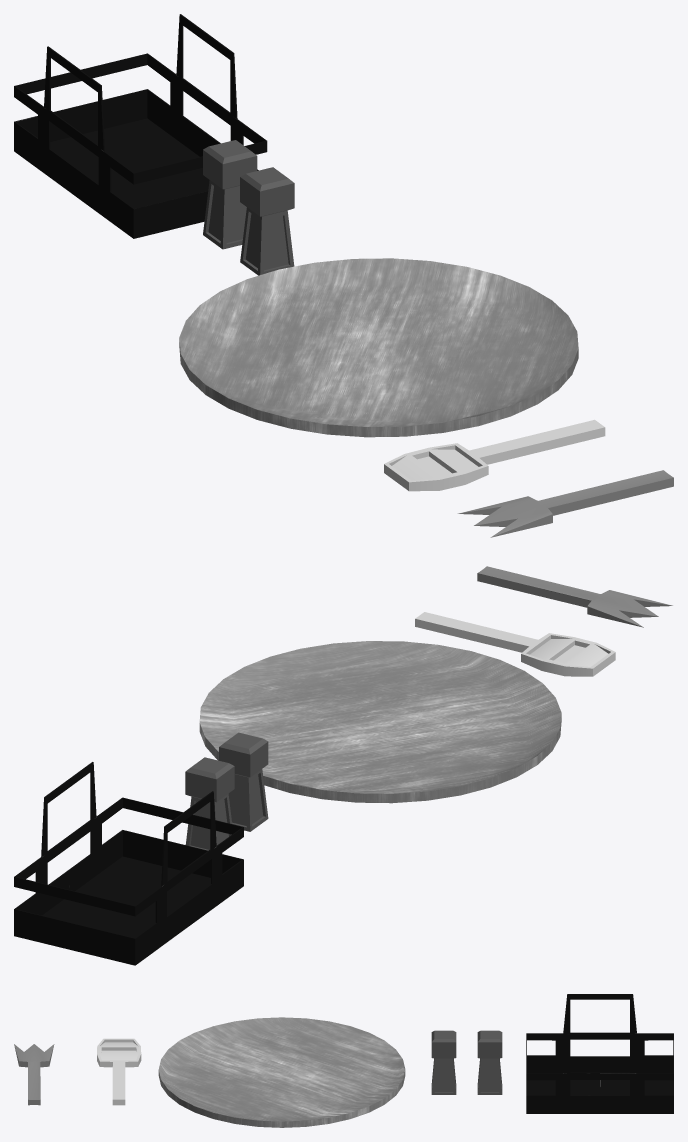
File: eatingstuff.fbx
3 renders of one model, top to bottom at view 1: azimuth 30°, elevation 25°; view 2: azimuth 150°, elevation 25°; view 3: azimuth 270°, elevation 25°, orthographic. The views are drawn at different scales.
Visible parts, largest first — view 1: plate, tablething, spoon, salt, fork, pepper; view 2: plate, tablething, spoon, fork, salt, pepper; view 3: plate, tablething, spoon, salt, pepper, fork.
Part boxes in pixels (left/top/right/bottom): plate: left=179, top=258, right=578, bottom=437; tablething: left=14, top=14, right=267, bottom=238; spoon: left=384, top=419, right=605, bottom=491; salt: left=240, top=167, right=294, bottom=275; fork: left=458, top=470, right=673, bottom=537; pepper: left=203, top=140, right=257, bottom=249; plate: left=199, top=641, right=561, bottom=803; tablething: left=14, top=762, right=243, bottom=965; spoon: left=415, top=612, right=615, bottom=676; fork: left=477, top=566, right=672, bottom=627; salt: left=219, top=732, right=268, bottom=831; pepper: left=185, top=757, right=234, bottom=850; plate: left=158, top=1017, right=405, bottom=1127; tablething: left=526, top=994, right=673, bottom=1113; spoon: left=97, top=1038, right=141, bottom=1105; salt: left=431, top=1030, right=456, bottom=1094; pepper: left=477, top=1030, right=502, bottom=1094; fork: left=14, top=1044, right=54, bottom=1105.
Bounding box in the file's own units: 60.05 × 21.36 × 161.
Materials: 2 (1 with a texture image).
